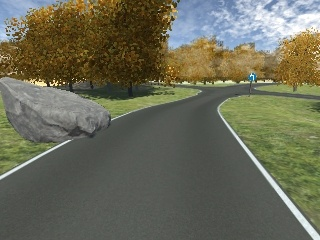Stone: (1, 73, 114, 147)
